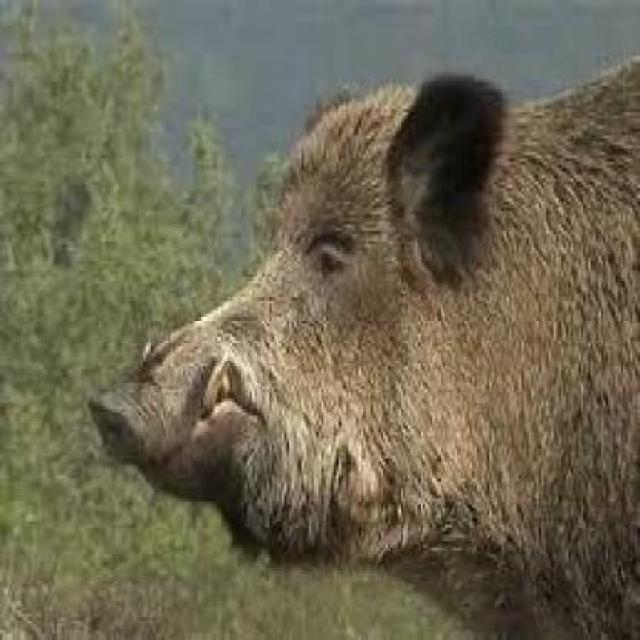wildboar: (84, 47, 640, 640)
